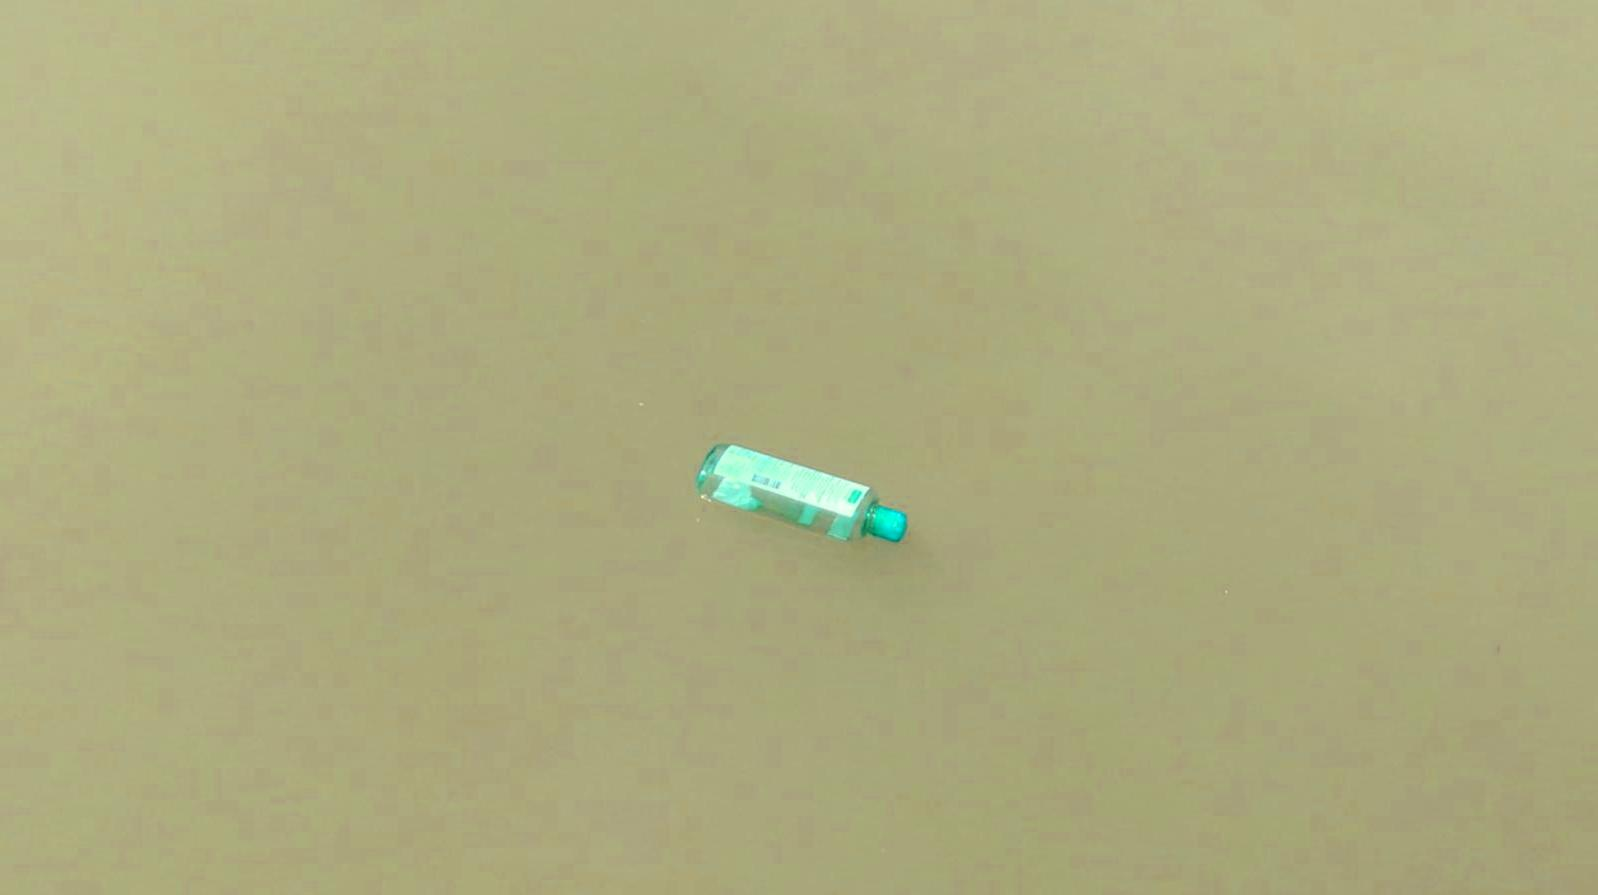Glass: (686, 439, 909, 546)
